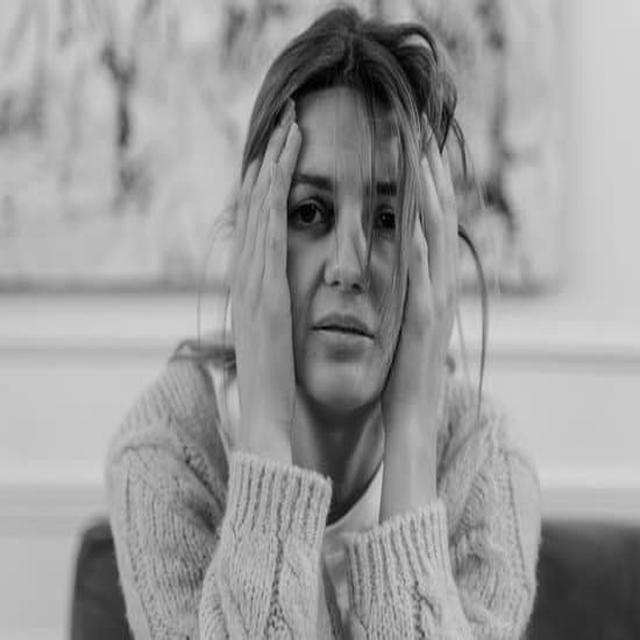Sadness: (282, 89, 412, 411)
